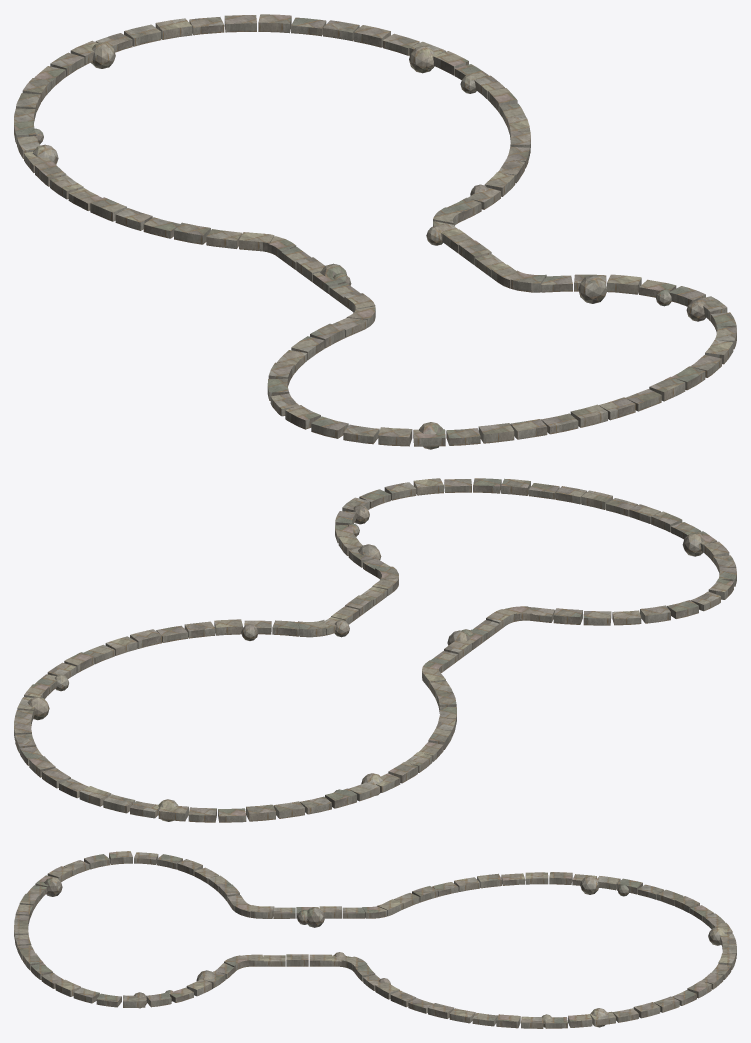
The model's file is pond_rim.glb.
3 views of the same model, one above another, from view 1: azimuth 30°, elevation 25°; view 2: azimuth 150°, elevation 25°; view 3: azimuth 270°, elevation 25° (orthographic). The views are drawn at different scales.
Visible parts, largest first — view 1: pond_rim_rimstone; view 2: pond_rim_rimstone; view 3: pond_rim_rimstone.
Part boxes in pixels (x1,y1,x2,y2): pond_rim_rimstone: (14, 14, 736, 449); pond_rim_rimstone: (14, 478, 736, 822); pond_rim_rimstone: (14, 851, 736, 1028).
Bounding box in the file's own units: 12.37 × 0.6398 × 22.07.
1 material, 1 textured.
